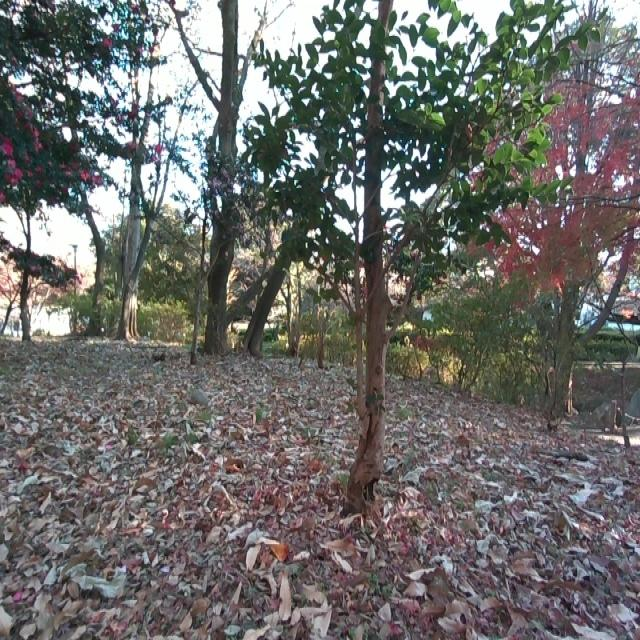tree: (338, 0, 421, 525), (161, 2, 270, 348), (83, 9, 183, 341), (247, 116, 327, 337), (0, 160, 50, 332)
